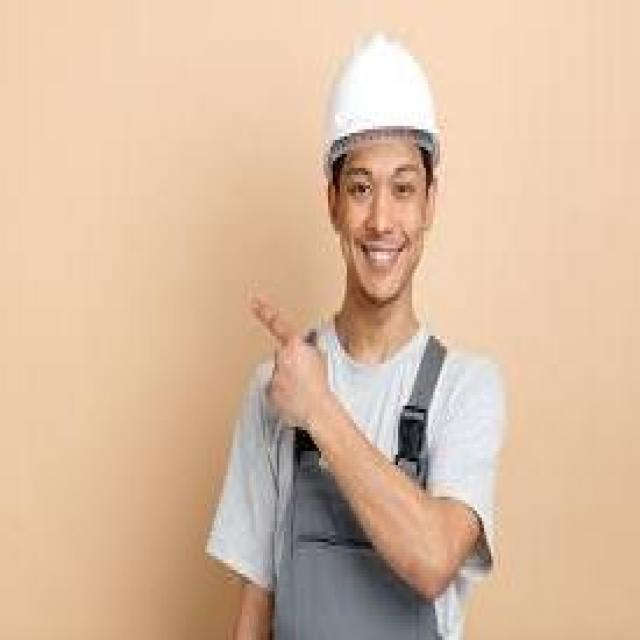Safety-Helmet: (316, 31, 447, 168)
